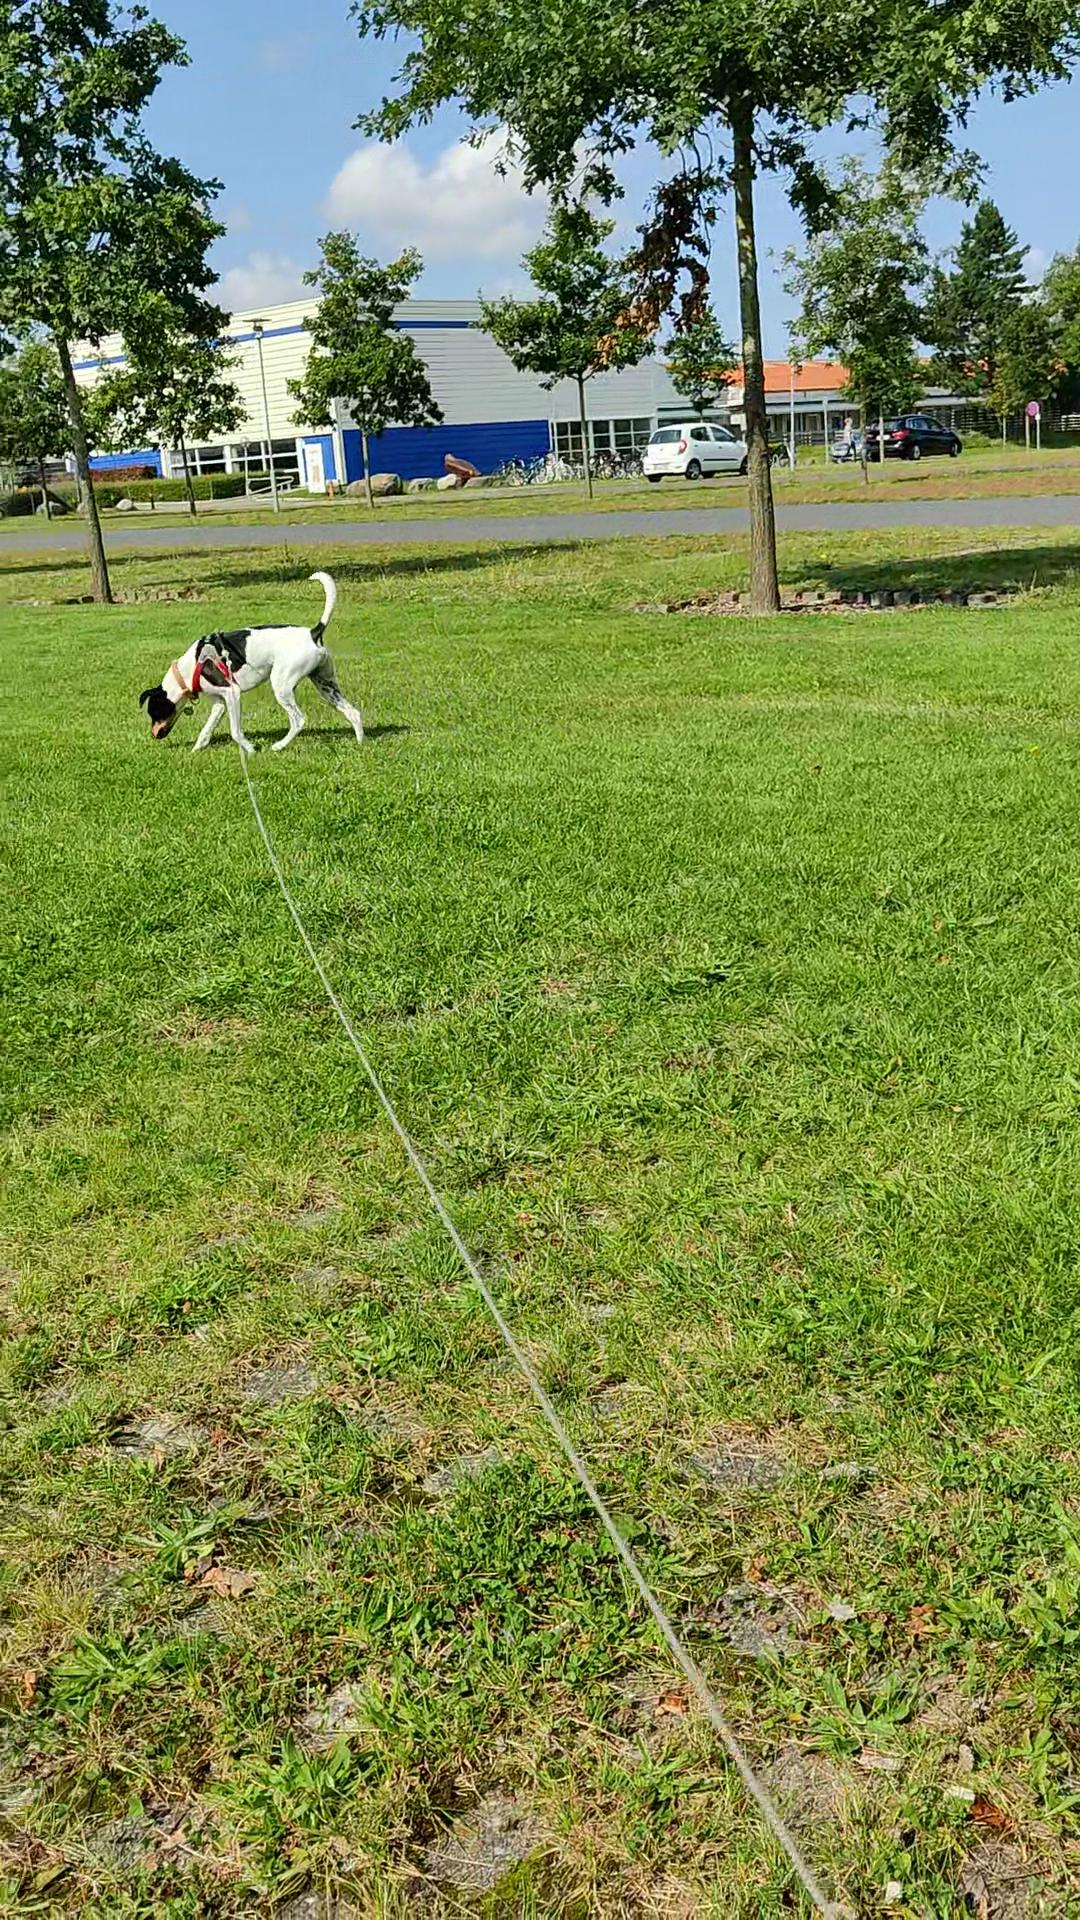Dog: (135, 570, 375, 758)
